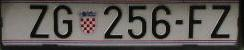-: (175, 18, 187, 27)
2: (103, 5, 124, 40)
5: (127, 5, 147, 40)
7: (150, 5, 171, 40)
F: (187, 3, 207, 42)
G: (53, 4, 74, 39)
Z: (27, 4, 51, 39), (211, 4, 230, 40)
